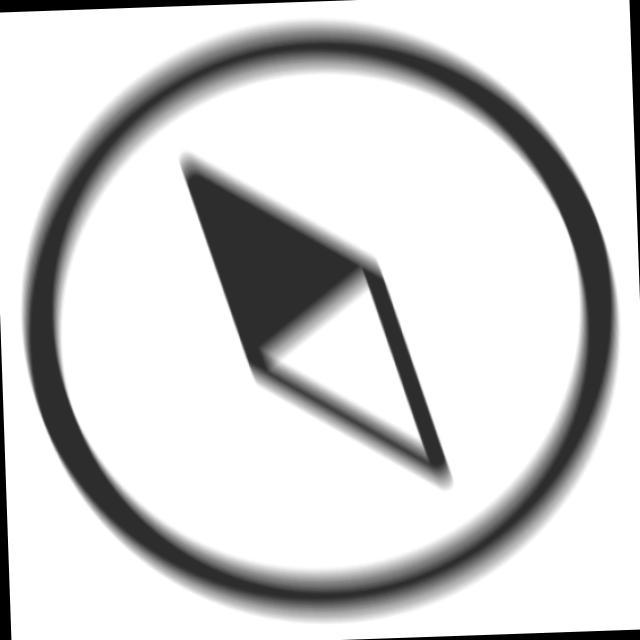compass: (3, 1, 640, 640)
